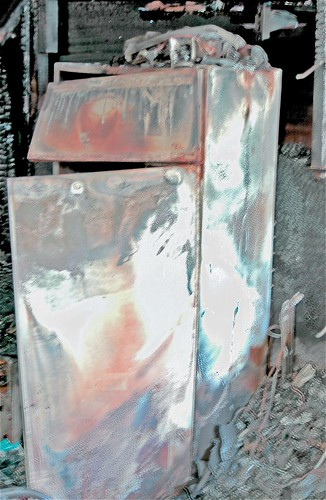trash: (1, 22, 292, 500)
